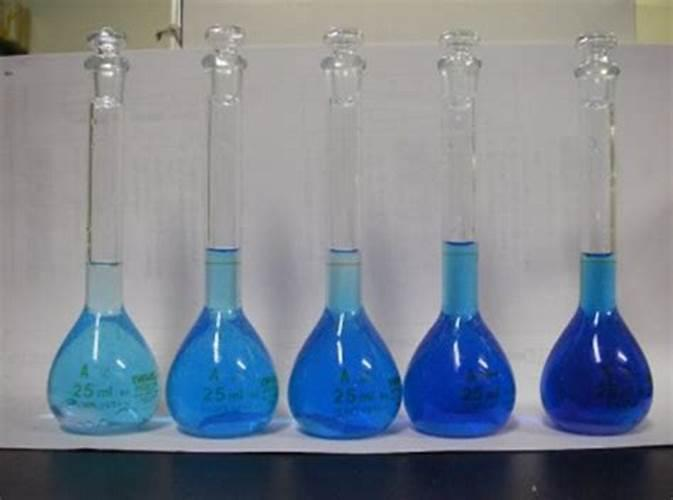Volumetric flask: (538, 19, 659, 437), (169, 24, 284, 440), (291, 20, 405, 439), (47, 22, 162, 433), (414, 29, 521, 438)
